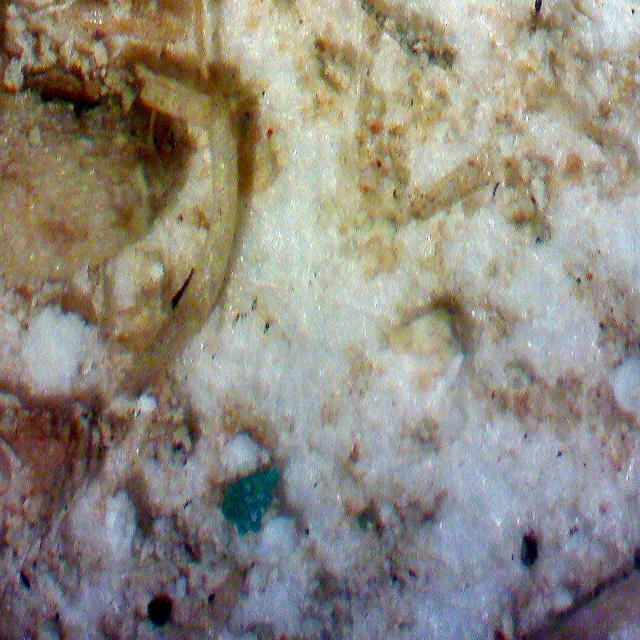microplastic: (222, 462, 282, 538)
